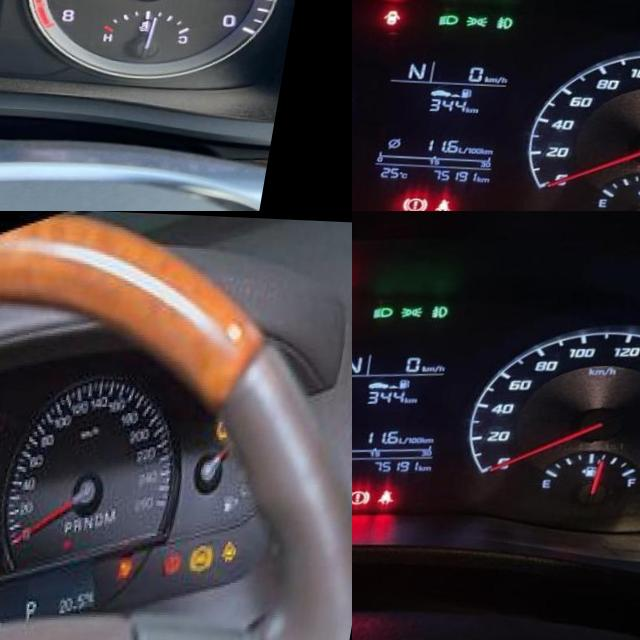Seat Belt: (393, 482, 409, 503), (449, 192, 464, 211)
